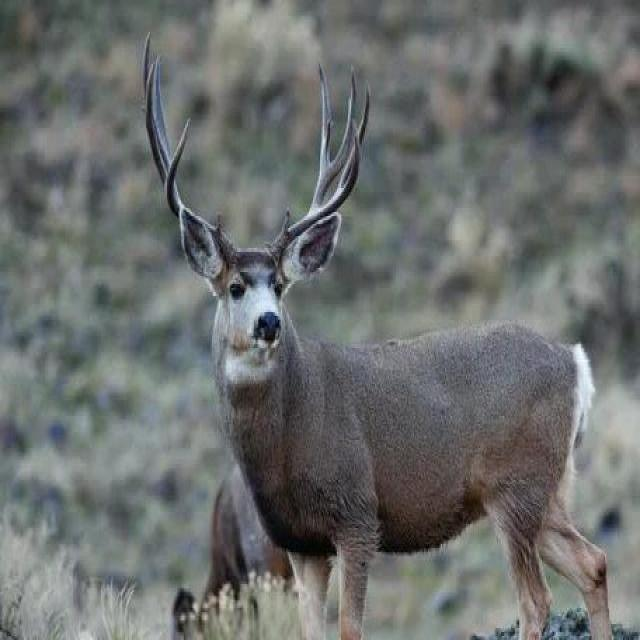deer: (156, 129, 624, 607)
